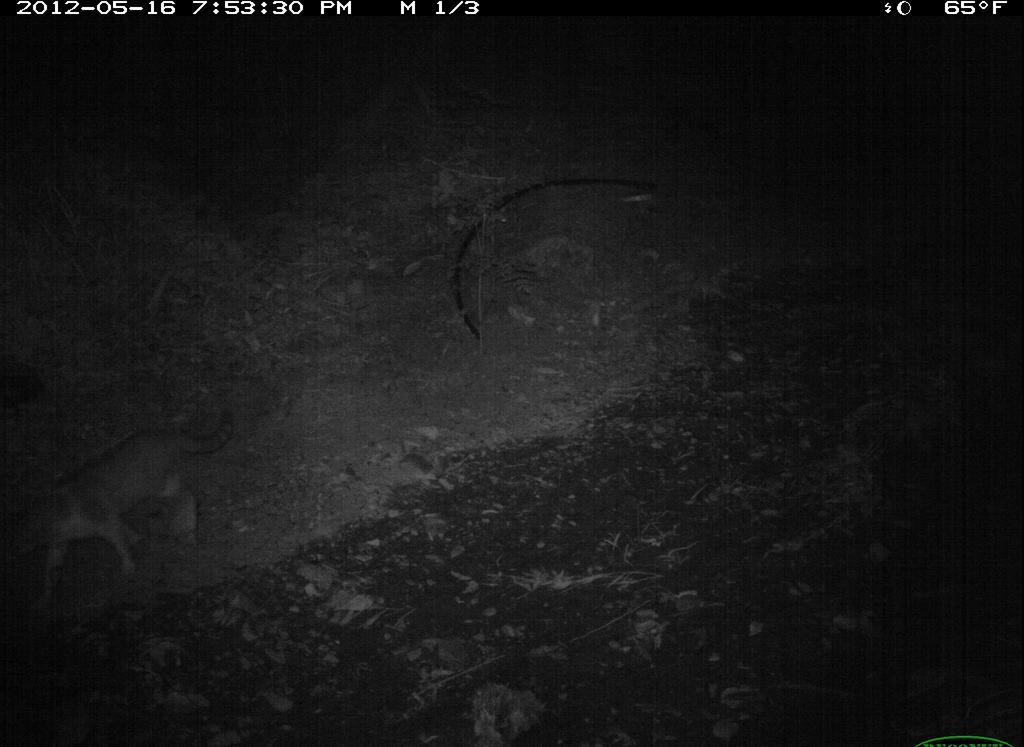cat: (1, 396, 263, 603)
